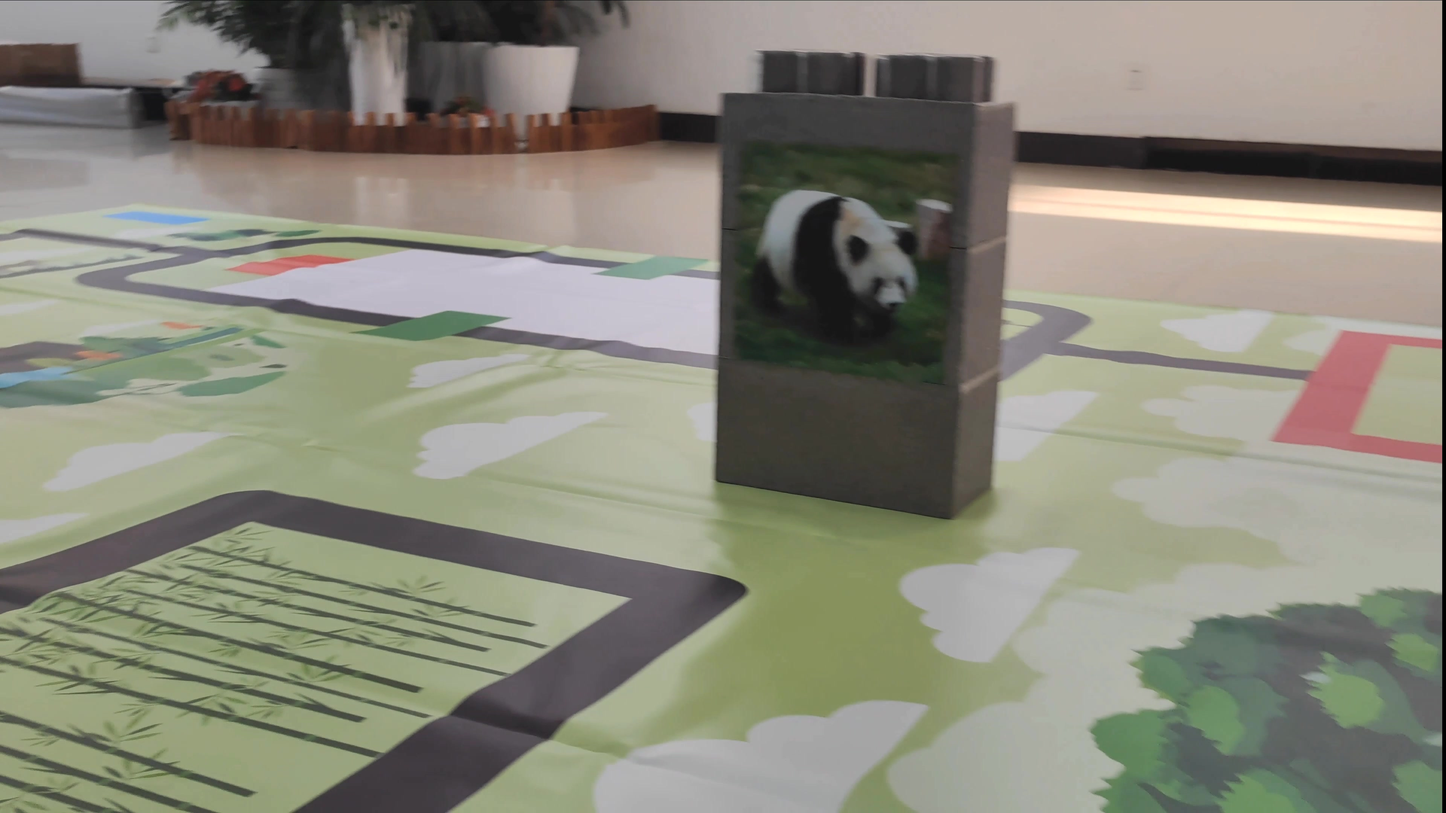panda: (746, 170, 934, 352)
